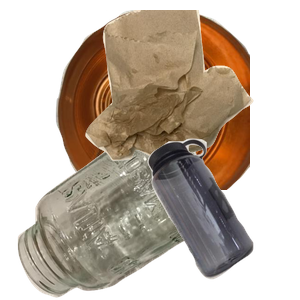glass: (15, 126, 229, 300)
metal: (53, 10, 293, 190)
plastic: (145, 136, 300, 300)
trash: (83, 10, 300, 163)
